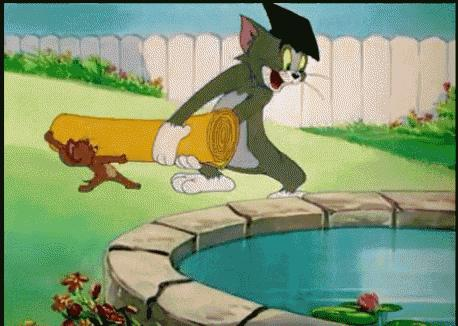jerry: (44, 129, 146, 194)
